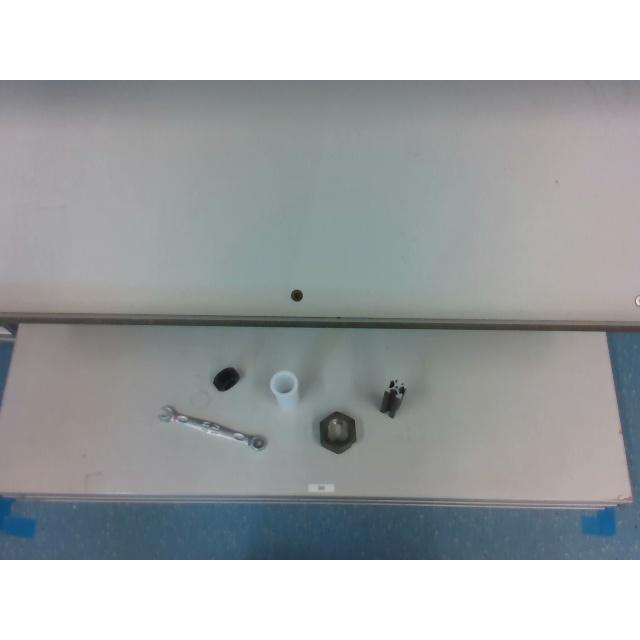F20_20_B: (379, 378, 405, 418)
M20: (212, 366, 240, 390)
M30: (319, 412, 355, 452)
Spacer: (270, 370, 298, 410)
Wrench: (158, 406, 266, 450)
